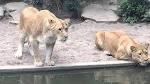lion: (15, 3, 73, 68), (90, 27, 150, 68)
